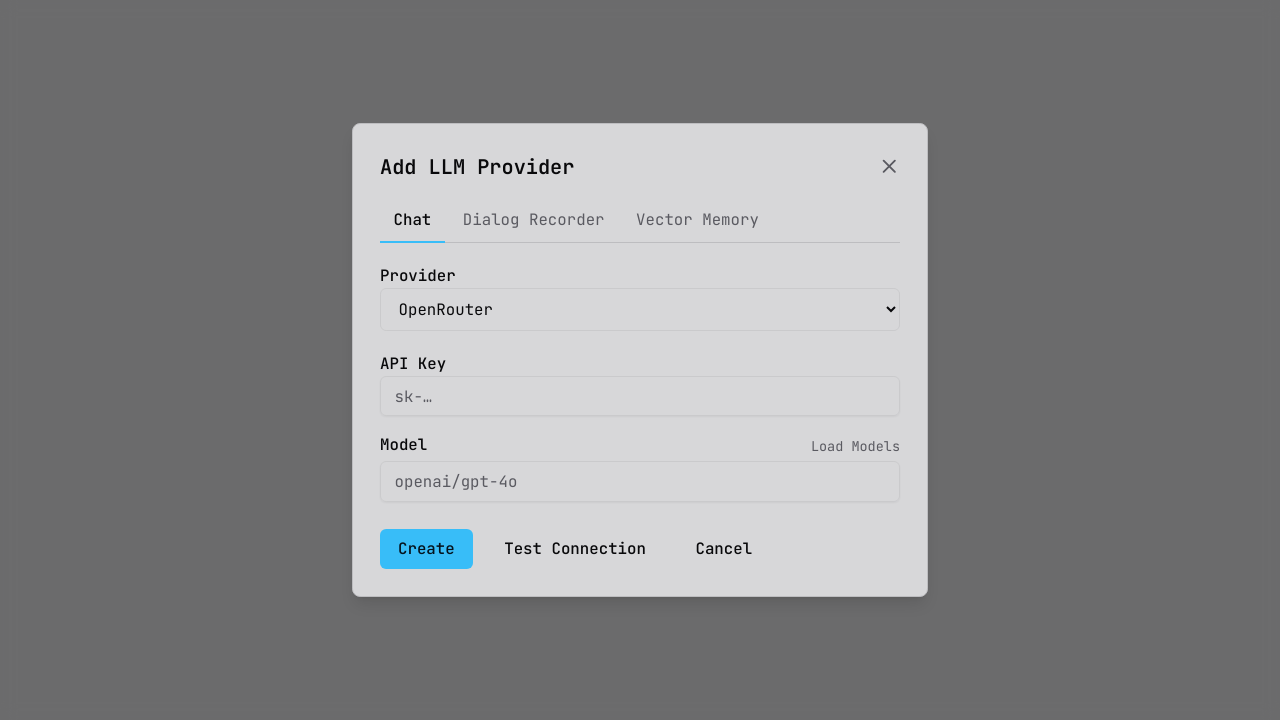
Scenario: LLMConfigDialog load-failure indication › S1.1 — a failed load shows a red message and a tab marker
Click the button "Vector Memory" at (698, 222), box [623, 200, 772, 243]
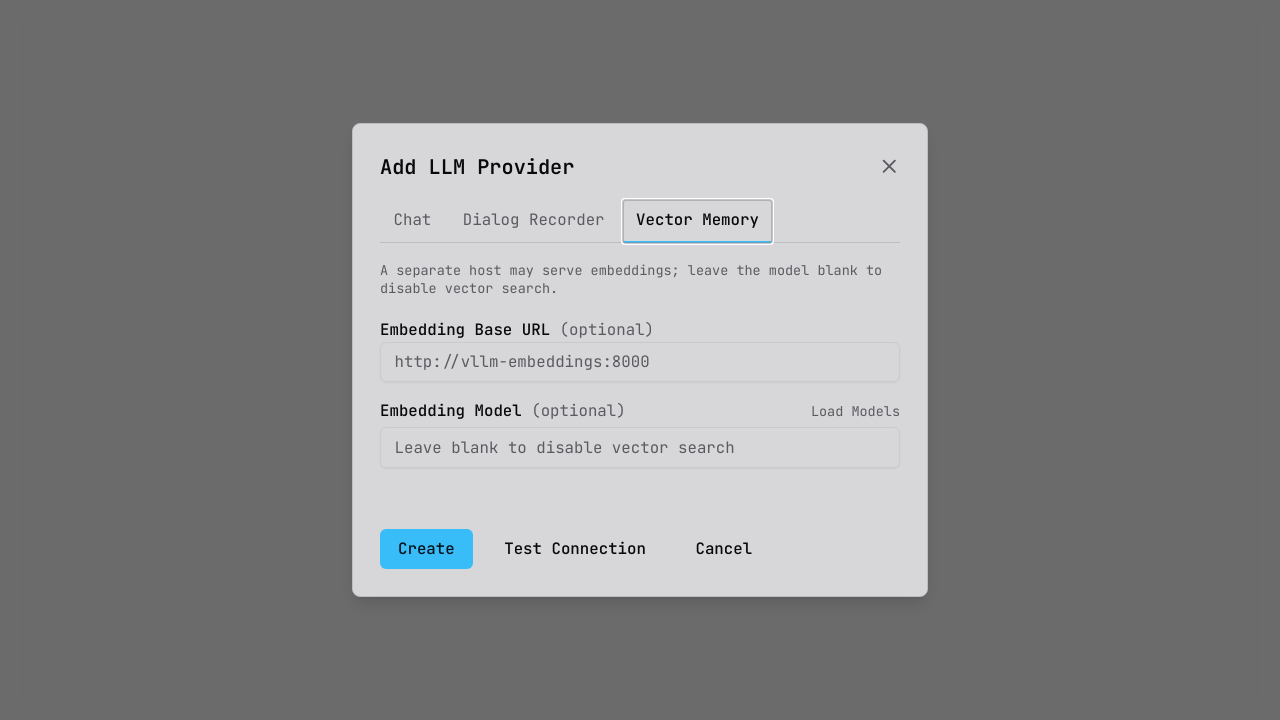
Click the button "Load Models" at (855, 412), box [811, 402, 900, 420]
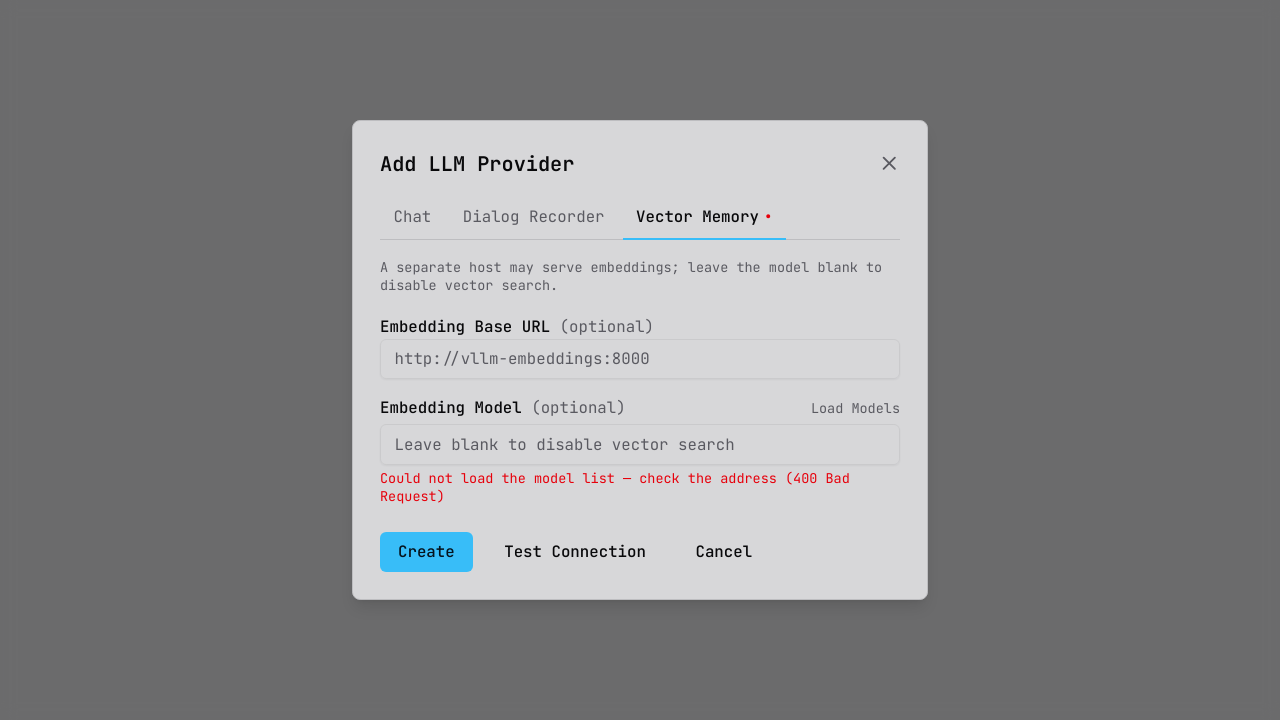
Result: the text "Could not load the model list" is shown at [380, 469, 777, 487]
Result: the text "400 Bad Request" is shown at [380, 469, 850, 505]
Result: the button "Vector Memory•" is shown at [623, 197, 786, 240]
